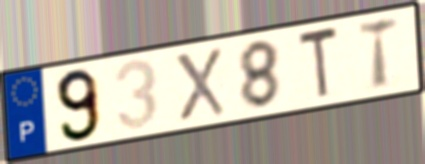3: (112, 55, 164, 134)
8: (235, 37, 284, 112)
9: (52, 66, 103, 143)
T: (296, 23, 342, 104), (356, 14, 401, 93)
X: (171, 45, 229, 124)
